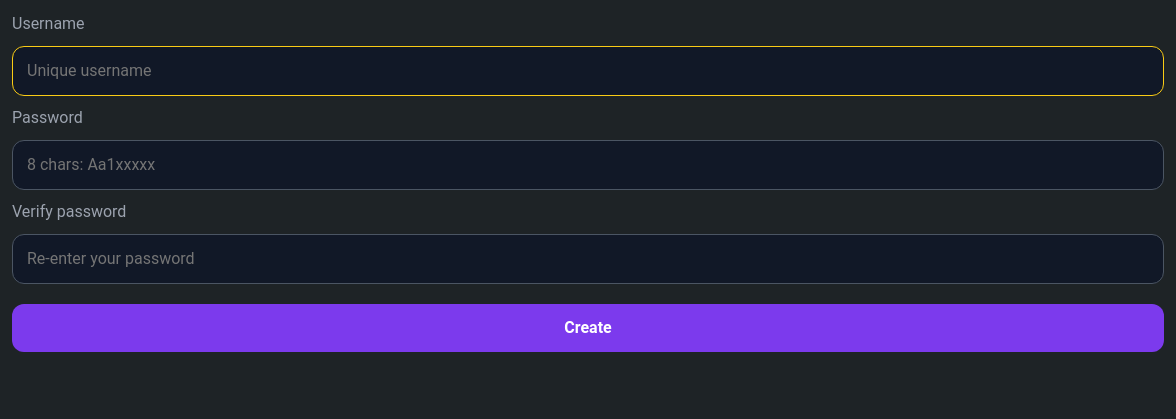
CreateProfileForm › shows a mismatch error when password confirmation does not match
Type "AcePilot" into the field labelled "Username".
click(588, 71); type("AcePilot")  # box [12, 46, 1164, 96]
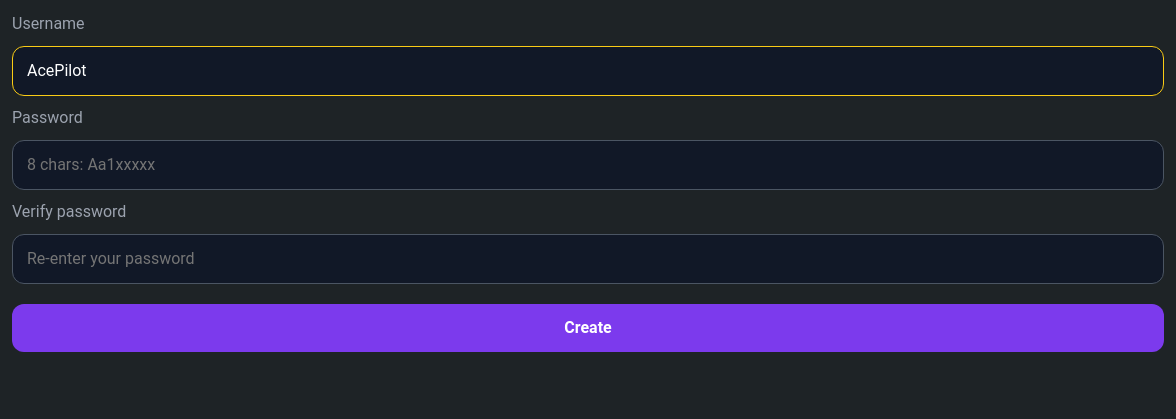
Type "Abc12345" into the password field labelled "Password".
click(588, 165); type("Abc12345")  # box [12, 140, 1164, 190]
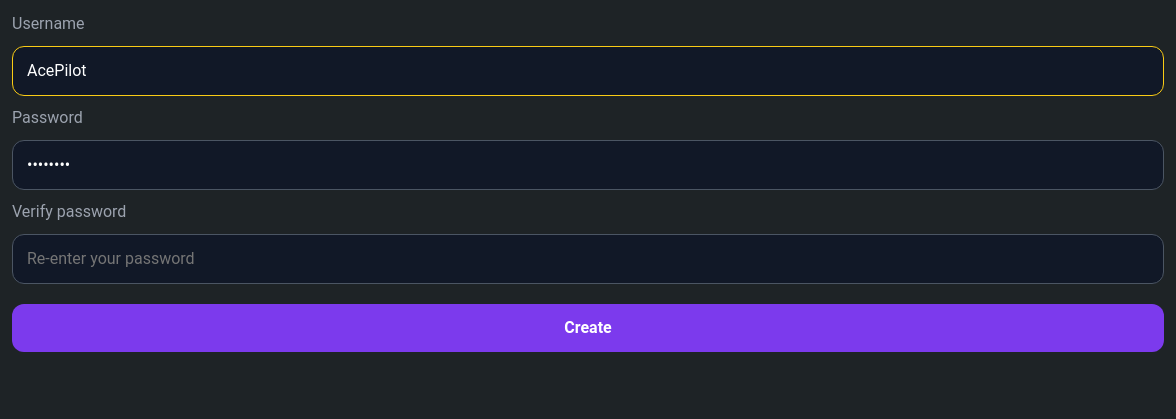
Type "Abc12344" into the password field labelled "Verify password".
click(588, 259); type("Abc12344")  # box [12, 234, 1164, 284]
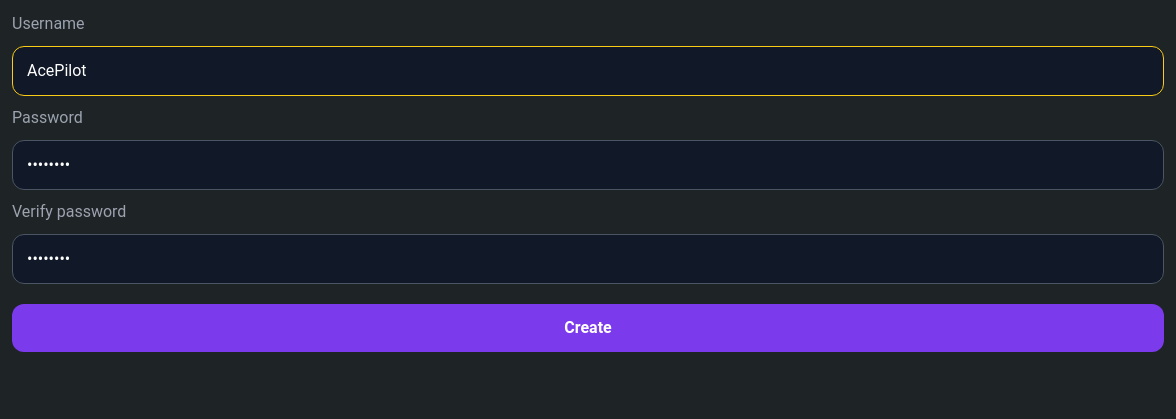
Click the button "Create".
click(588, 328)  # box [12, 304, 1164, 352]
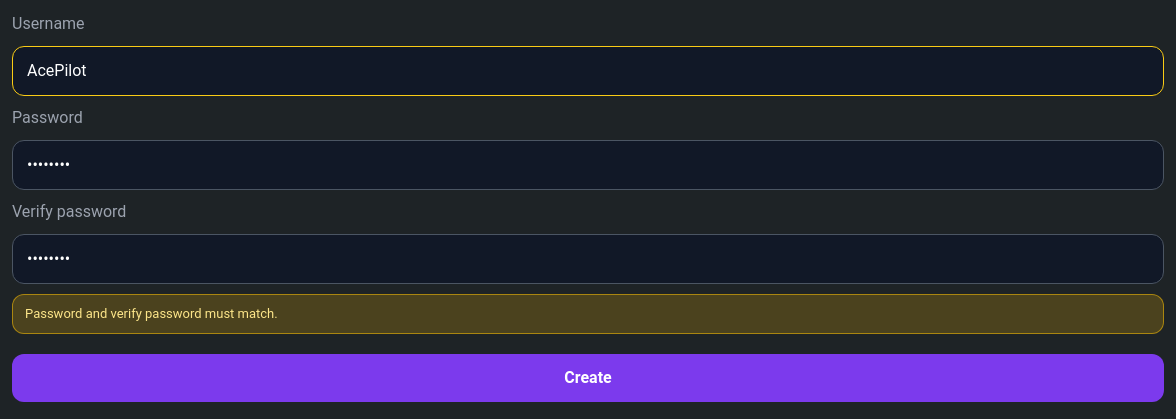
Expected: the message shows "must match", [25, 306, 278, 321]
